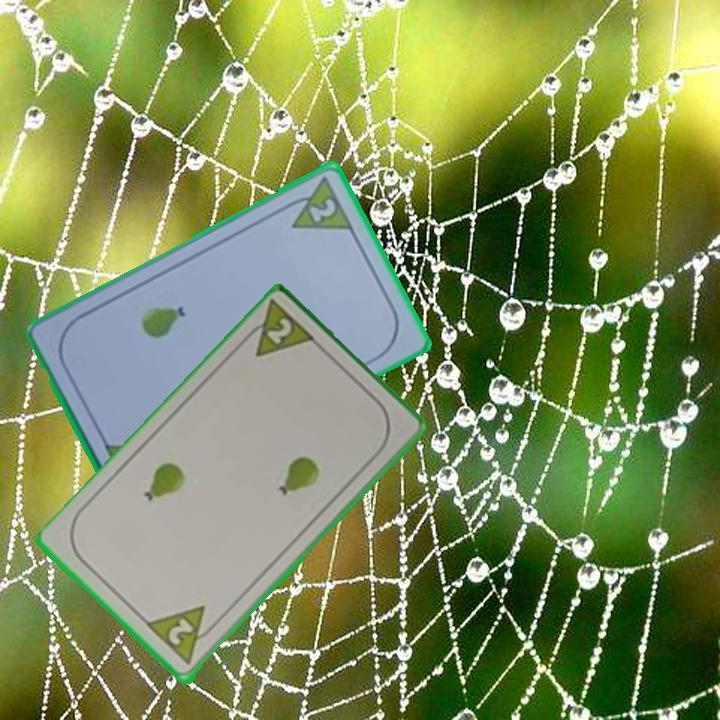2p: (144, 602, 223, 669), (237, 298, 320, 361), (305, 194, 340, 225)
